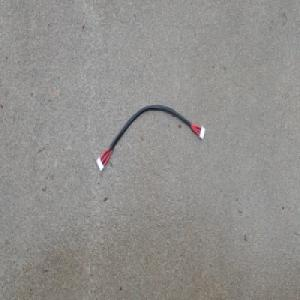Wire: (94, 103, 206, 172)
